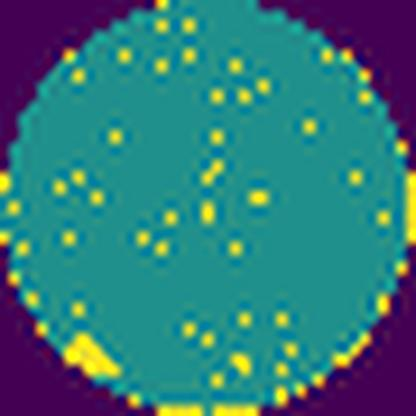Edge-Loc: (58, 332, 128, 383)
